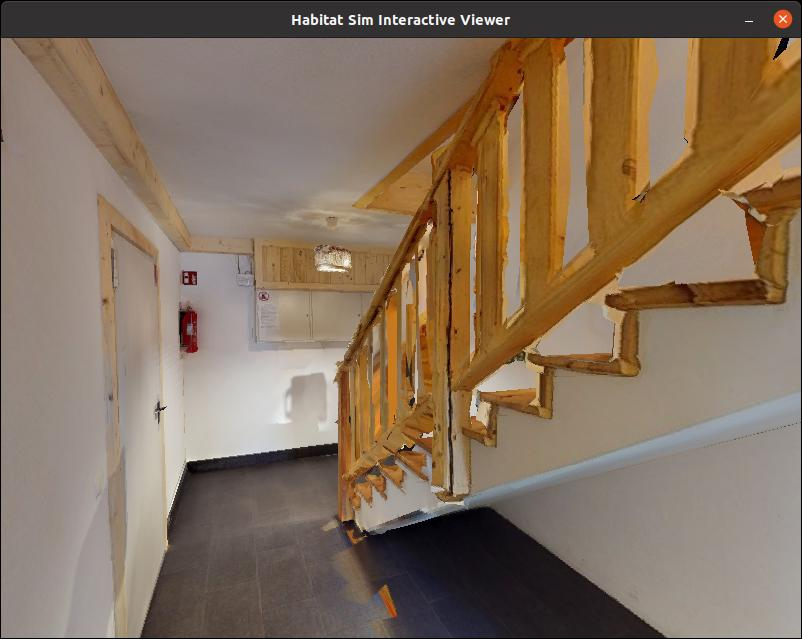stairs: (311, 33, 780, 503)
